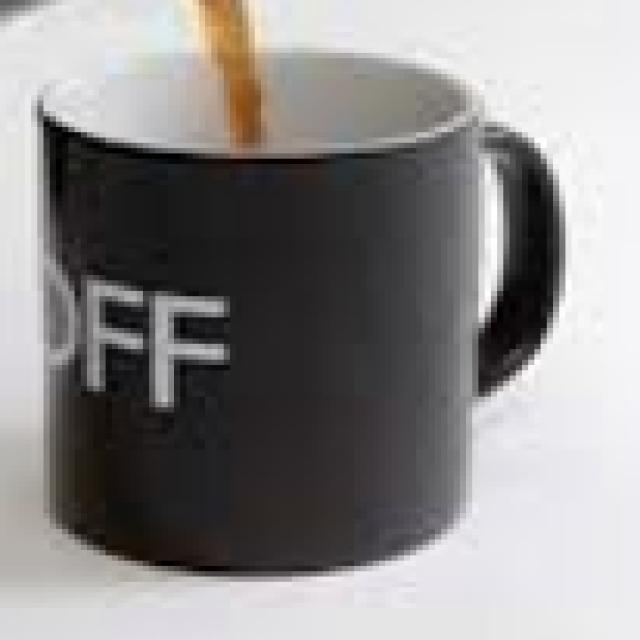taza: (33, 43, 569, 580)
